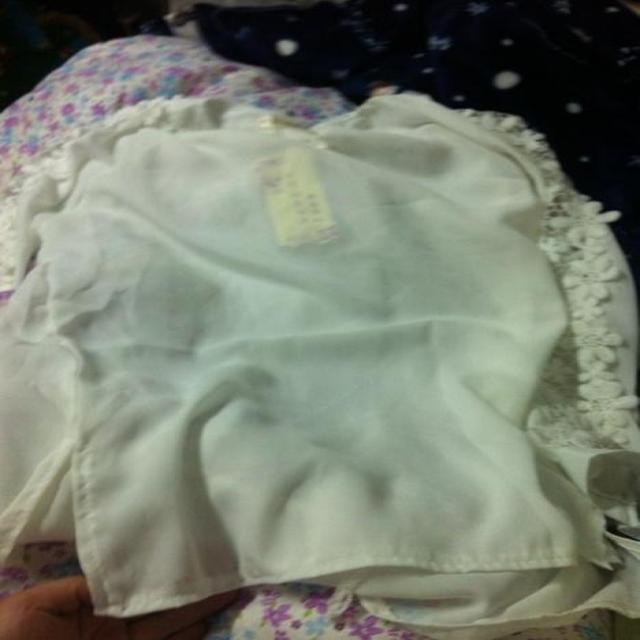short-sleeve-dress: (15, 90, 632, 597)
